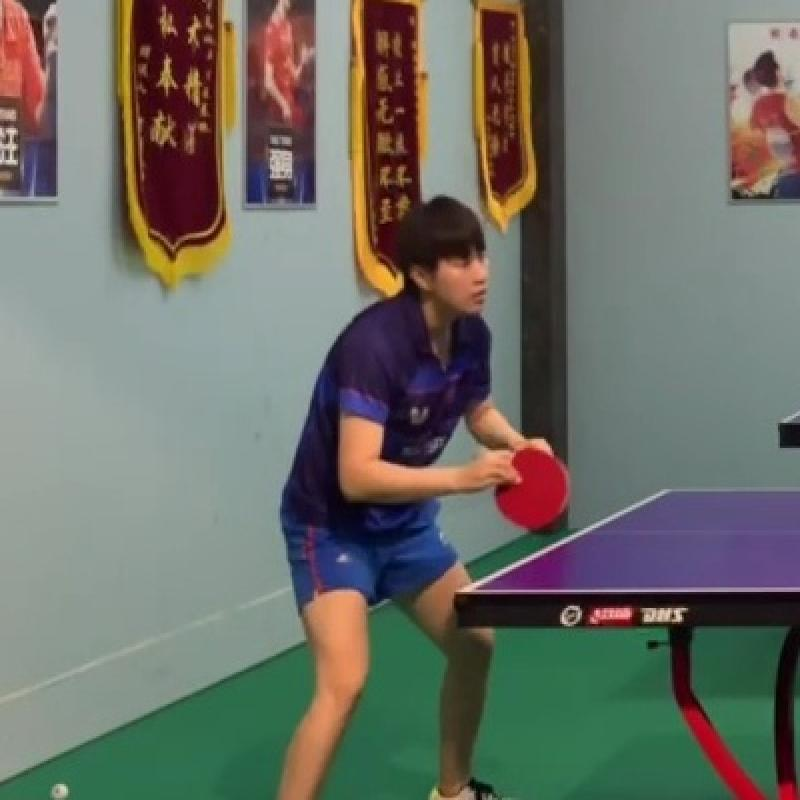bats: (482, 424, 584, 540)
